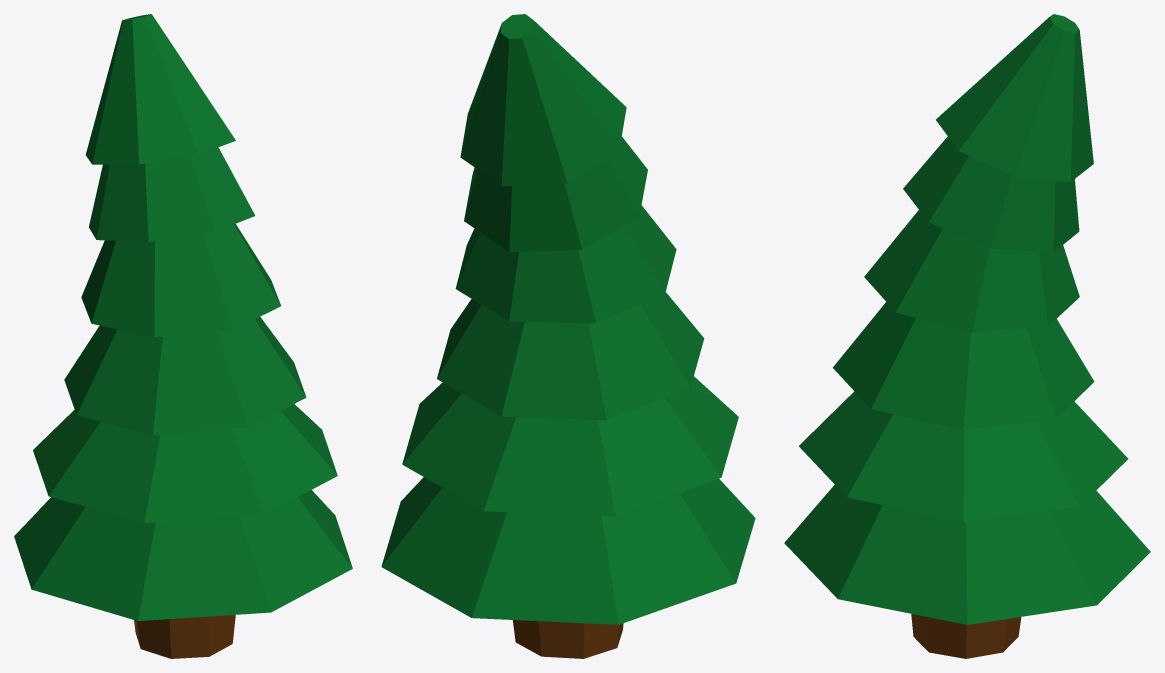
Rendered from pine2.fbx.
3 views of the same model, side by side, from view 1: azimuth 30°, elevation 25°; view 2: azimuth 150°, elevation 25°; view 3: azimuth 270°, elevation 25° (orthographic). The views are drawn at different scales.
Parts seen in each view (by area): view 1: Cylinder.004; view 2: Cylinder.004; view 3: Cylinder.004.
Boxes of the visible parts, x1,y1,x2,y2 form: Cylinder.004: [14, 14, 352, 658]; Cylinder.004: [381, 14, 755, 658]; Cylinder.004: [784, 14, 1150, 658].
Size of the model in its own units: 698 by 1301 by 698.
